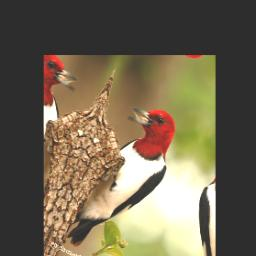Woodpecker: (65, 90, 187, 256)
